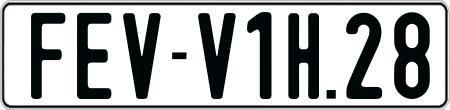1: (244, 12, 271, 100)
2: (345, 11, 381, 101)
8: (391, 10, 428, 99)
E: (77, 13, 117, 100)
F: (29, 12, 67, 101)
H: (286, 10, 323, 96)
V: (123, 11, 167, 99), (195, 10, 235, 100)
